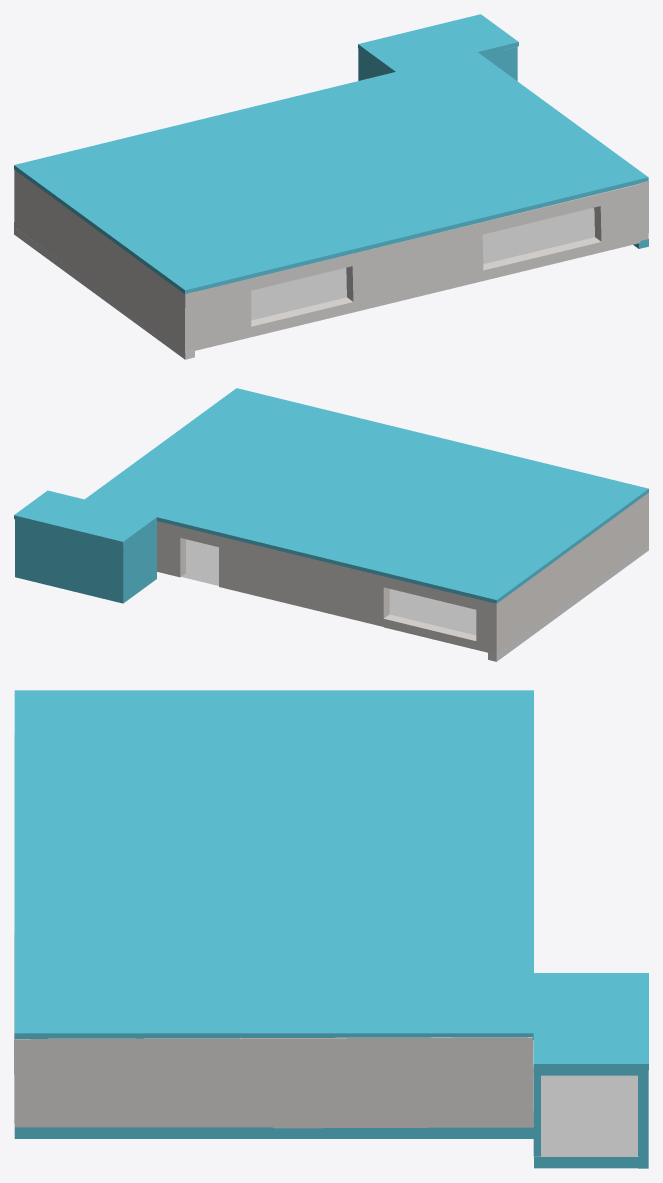
The model's file is versiondefinitivaaula .fbx.
3 renders of one model, top to bottom at view 1: azimuth 30°, elevation 25°; view 2: azimuth 150°, elevation 25°; view 3: azimuth 270°, elevation 25°, orthographic. The views are drawn at different scales.
Parts seen in each view (by area): view 1: techoypasillo, paredes, Cube.003, Cube.004; view 2: techoypasillo, paredes, Cube.003, Cube.004; view 3: techoypasillo, paredes, Cube.003.
Part boxes in pixels (x1,y1,x2,y2): techoypasillo: [14, 14, 648, 294]; paredes: [14, 170, 648, 352]; Cube.003: [251, 208, 594, 320]; Cube.004: [14, 227, 194, 359]; techoypasillo: [14, 388, 648, 603]; paredes: [157, 492, 648, 654]; Cube.003: [181, 539, 476, 635]; Cube.004: [488, 545, 648, 661]; techoypasillo: [14, 690, 648, 1168]; paredes: [14, 735, 533, 1128]; Cube.003: [533, 1067, 638, 1156].
Size of the model in its own units: 6813 by 896 by 4893.
